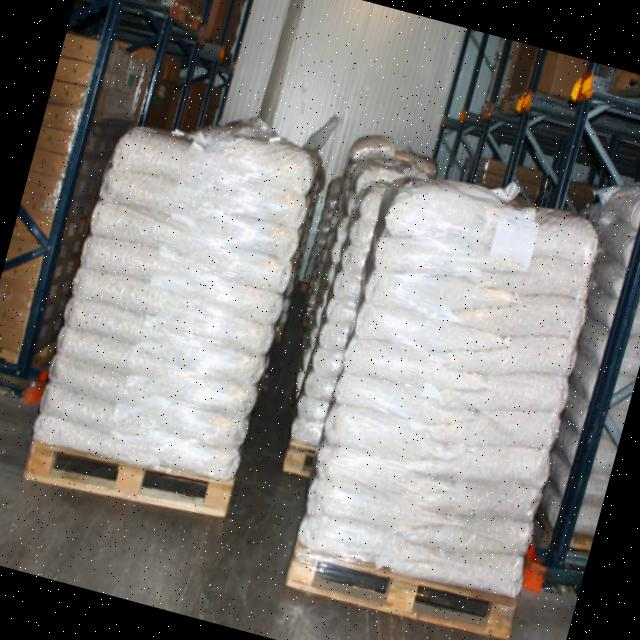Wooden-Pallets: (283, 541, 526, 640), (20, 438, 232, 524)
